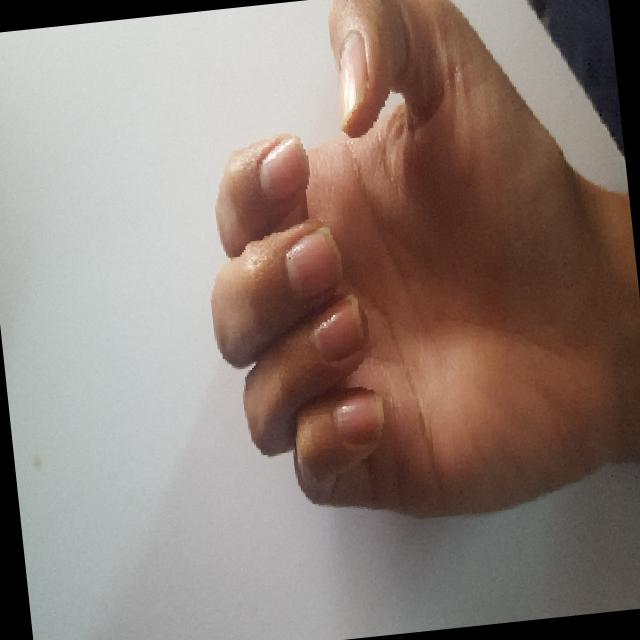Nail: (283, 227, 340, 298), (311, 295, 362, 361), (257, 137, 307, 199), (337, 30, 367, 128), (332, 388, 382, 446)
